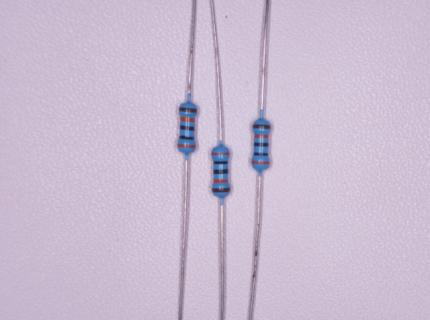Black band: (213, 169, 228, 175), (254, 141, 269, 147), (180, 125, 195, 131), (179, 135, 195, 140), (213, 161, 228, 165), (254, 152, 269, 156)
Brown band: (212, 187, 231, 193), (179, 107, 197, 113), (252, 124, 271, 129)
Orange band: (177, 143, 196, 149), (180, 116, 195, 122), (213, 179, 229, 184), (211, 152, 230, 156), (251, 161, 270, 165), (254, 134, 269, 139)
